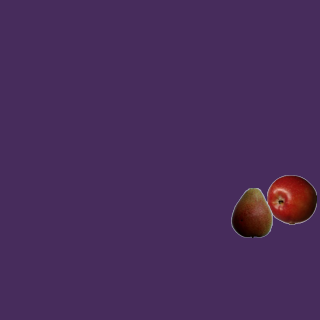Apple Braeburn: (266, 174, 316, 224)
Pear Forelle: (226, 187, 276, 237)
